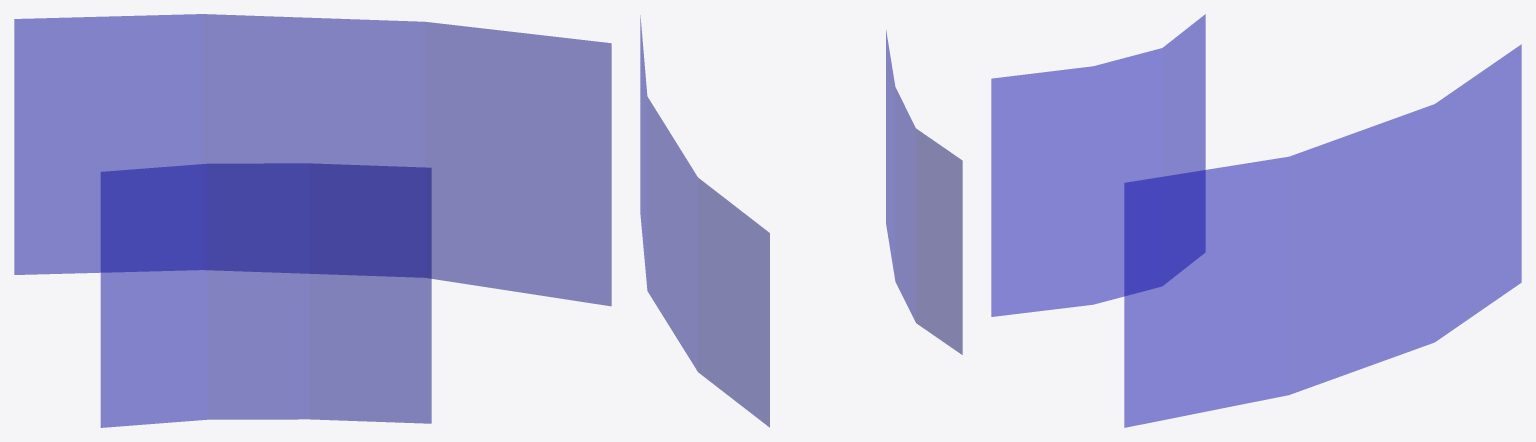
Rendered from track_military_coll_wall_32.fbx.
The picture shows the model from 3 angles, left to right: view 1: azimuth 30°, elevation 25°; view 2: azimuth 150°, elevation 25°; view 3: azimuth 270°, elevation 25°; orthographic projection. The views are drawn at different scales.
Visible parts, largest first — view 1: track_military_coll_wall_32; view 2: track_military_coll_wall_32; view 3: track_military_coll_wall_32.
Part boxes in pixels (x1,y1,x2,y2): track_military_coll_wall_32: (14,14,611,427); track_military_coll_wall_32: (640,15,962,427); track_military_coll_wall_32: (991,14,1521,427).
Size of the model in its own units: 62.19 by 38.51 by 65.66.
